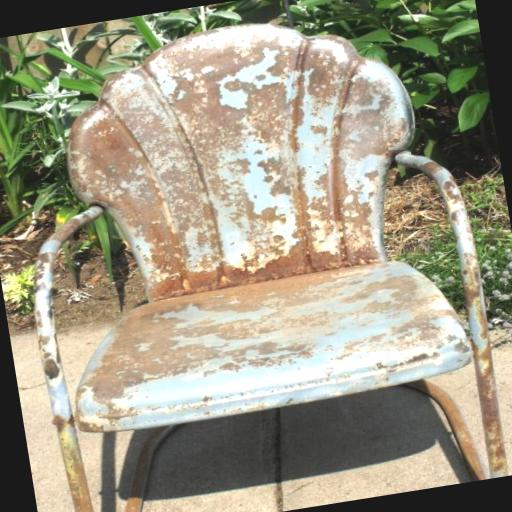segmentation: (35, 23, 471, 445)
